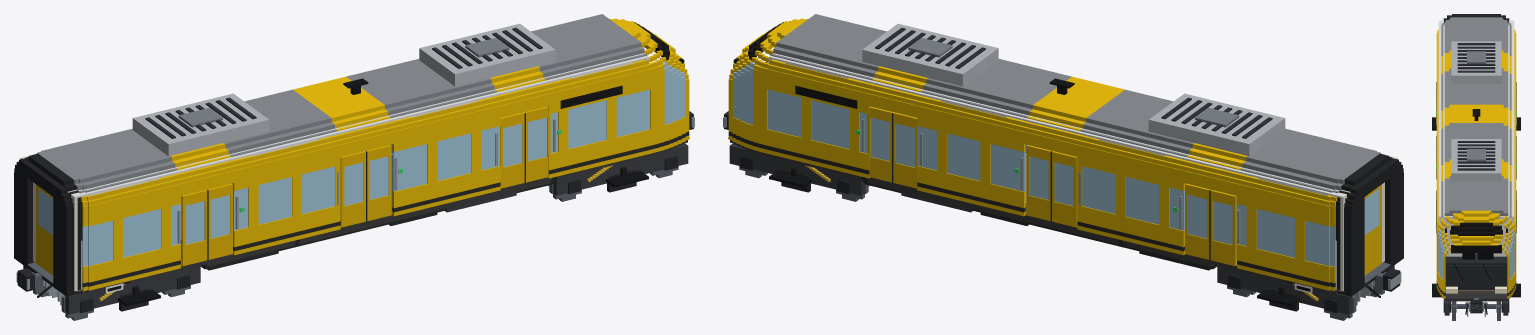
File: ginza1000_front.obj
The picture shows the model from 3 angles, left to right: view 1: azimuth 30°, elevation 25°; view 2: azimuth 150°, elevation 25°; view 3: azimuth 270°, elevation 25°; orthographic projection. The views are drawn at different scales.
Parts seen in each view (by area): view 1: SHELL, SHELL_roof, SHELL_diaphragm, SHELL_ceiling, BOGEY_FRONT, BOGEY_REAR, EXTERNAL_DOOR_3_CG_DR1_TOGGLE_TL_-0.59_X, EXTERNAL_DOOR_9_CG_DR2_TOGGLE_TL_-0.59_X, EXTERNAL_DOOR_15_CG_DR3_TOGGLE_TL_-0.59_X, EXTERNAL_DOOR_4_CG_DR1_TOGGLE_TL_0.59_X, EXTERNAL_DOOR_10_CG_DR2_TOGGLE_TL_0.59_X, EXTERNAL_DOOR_16_CG_DR3_TOGGLE_TL_0.59_X (+7 smaller); view 2: SHELL, SHELL_roof, SHELL_diaphragm, SHELL_ceiling, BOGEY_FRONT, BOGEY_REAR, EXTERNAL_DOOR_6_CG_DL1_TOGGLE_TL_-0.59_X, EXTERNAL_DOOR_12_CG_DL2_TOGGLE_TL_-0.59_X, EXTERNAL_DOOR_18_CG_DL3_TOGGLE_TL_-0.59_X, EXTERNAL_DOOR_7_CG_DL1_TOGGLE_TL_0.59_X, EXTERNAL_DOOR_13_CG_DL2_TOGGLE_TL_0.59_X, EXTERNAL_DOOR_19_CG_DL3_TOGGLE_TL_0.59_X (+7 smaller); view 3: SHELL, SHELL_roof, SHELL_ceiling, SHELL_desk, SHELL_cabwall, BOGEY_FRONT, SHELL_destbox, BOGEY_FRONT_WHEEL_2, FRAME, SHELL_handle, HEADLIGHT_1, BOGEY_REAR.
Part boxes in pixels (box(x1,y1,x2,y2)): SHELL: box(25, 14, 689, 295); SHELL_roof: box(132, 23, 555, 156); SHELL_diaphragm: box(14, 158, 72, 296); SHELL_ceiling: box(23, 54, 645, 197); BOGEY_FRONT: box(553, 143, 688, 195); BOGEY_REAR: box(23, 265, 200, 314); EXTERNAL_DOOR_3_CG_DR1_TOGGLE_TL_-0.59_X: box(181, 189, 208, 266); EXTERNAL_DOOR_9_CG_DR2_TOGGLE_TL_-0.59_X: box(340, 151, 367, 227); EXTERNAL_DOOR_15_CG_DR3_TOGGLE_TL_-0.59_X: box(500, 112, 525, 188); EXTERNAL_DOOR_4_CG_DR1_TOGGLE_TL_0.59_X: box(207, 183, 232, 259); EXTERNAL_DOOR_10_CG_DR2_TOGGLE_TL_0.59_X: box(366, 145, 391, 221); EXTERNAL_DOOR_16_CG_DR3_TOGGLE_TL_0.59_X: box(524, 106, 550, 182); SHELL: box(728, 14, 1392, 295); SHELL_roof: box(862, 23, 1285, 156); SHELL_diaphragm: box(1345, 158, 1403, 296); SHELL_ceiling: box(772, 54, 1394, 197); BOGEY_FRONT: box(729, 143, 864, 195); BOGEY_REAR: box(1217, 265, 1394, 314); EXTERNAL_DOOR_6_CG_DL1_TOGGLE_TL_-0.59_X: box(1209, 189, 1236, 266); EXTERNAL_DOOR_12_CG_DL2_TOGGLE_TL_-0.59_X: box(1050, 151, 1077, 227); EXTERNAL_DOOR_18_CG_DL3_TOGGLE_TL_-0.59_X: box(892, 112, 917, 188); EXTERNAL_DOOR_7_CG_DL1_TOGGLE_TL_0.59_X: box(1185, 183, 1210, 259); EXTERNAL_DOOR_13_CG_DL2_TOGGLE_TL_0.59_X: box(1026, 145, 1051, 221); EXTERNAL_DOOR_19_CG_DL3_TOGGLE_TL_0.59_X: box(867, 106, 893, 182); SHELL: box(1436, 14, 1516, 301); SHELL_roof: box(1451, 41, 1501, 181); SHELL_ceiling: box(1438, 21, 1514, 215); SHELL_desk: box(1445, 253, 1507, 289); SHELL_cabwall: box(1438, 215, 1514, 256); BOGEY_FRONT: box(1432, 283, 1520, 315); SHELL_destbox: box(1451, 245, 1501, 253); BOGEY_FRONT_WHEEL_2: box(1451, 301, 1501, 320); FRAME: box(1465, 298, 1487, 314); SHELL_handle: box(1436, 82, 1516, 233); HEADLIGHT_1: box(1446, 286, 1506, 293); BOGEY_REAR: box(1432, 117, 1520, 130).
Size of the model in its own units: 17.24 by 3.86 by 2.84.
1 material, 1 textured.
